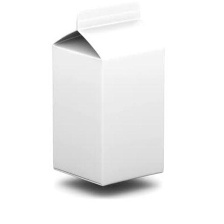carton: (48, 1, 175, 191)
